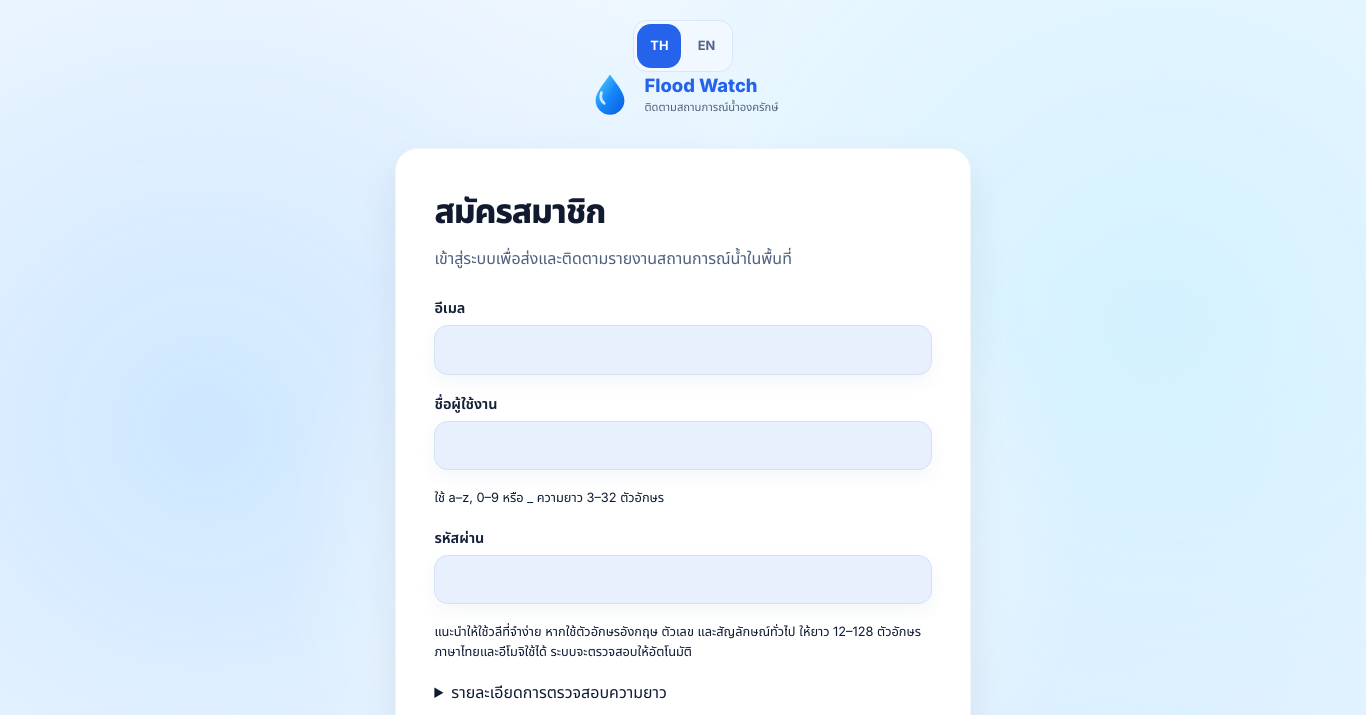
AuthPage › distinguishes a successful registration from an automatic login failure
The image size is (1366, 715).
Type "user@example.com" into the field labelled "อีเมล" at (683, 350), box [434,325,932,374]
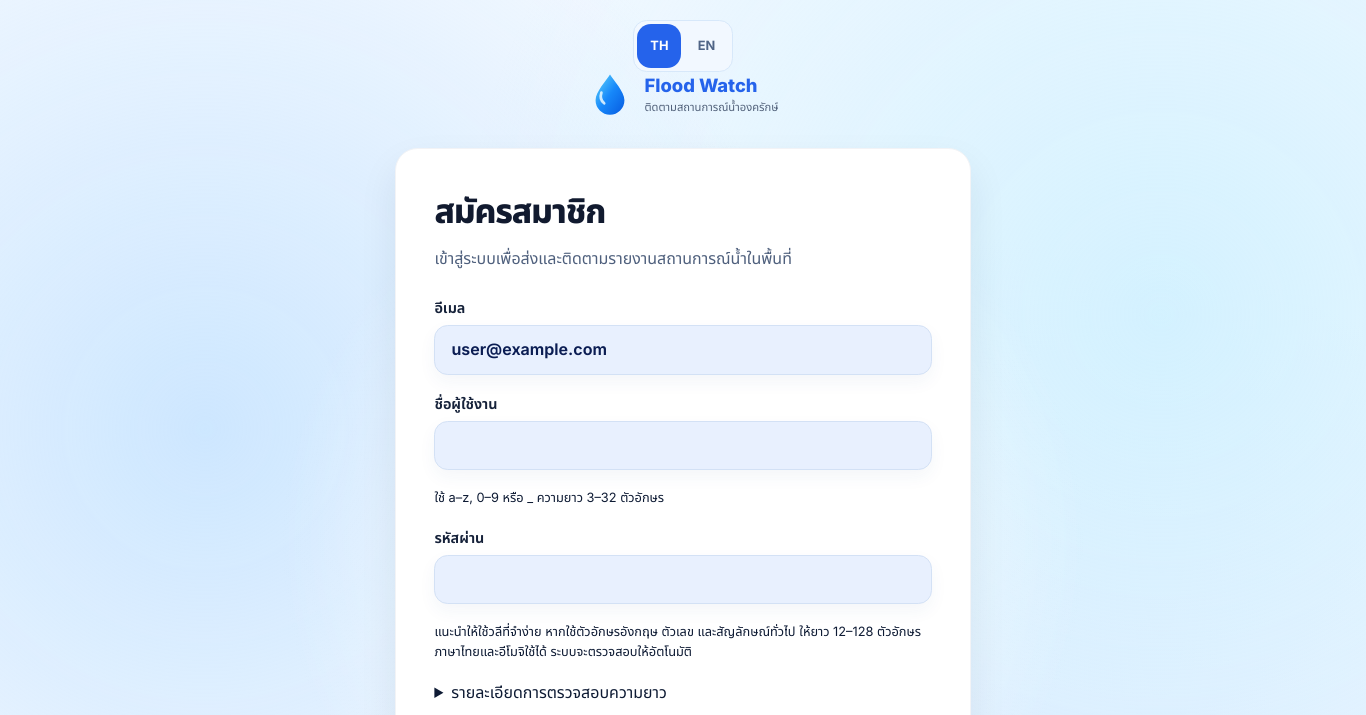
Type "testuser" into the field labelled "ชื่อผู้ใช้งาน" at (683, 446), box [434,421,932,470]
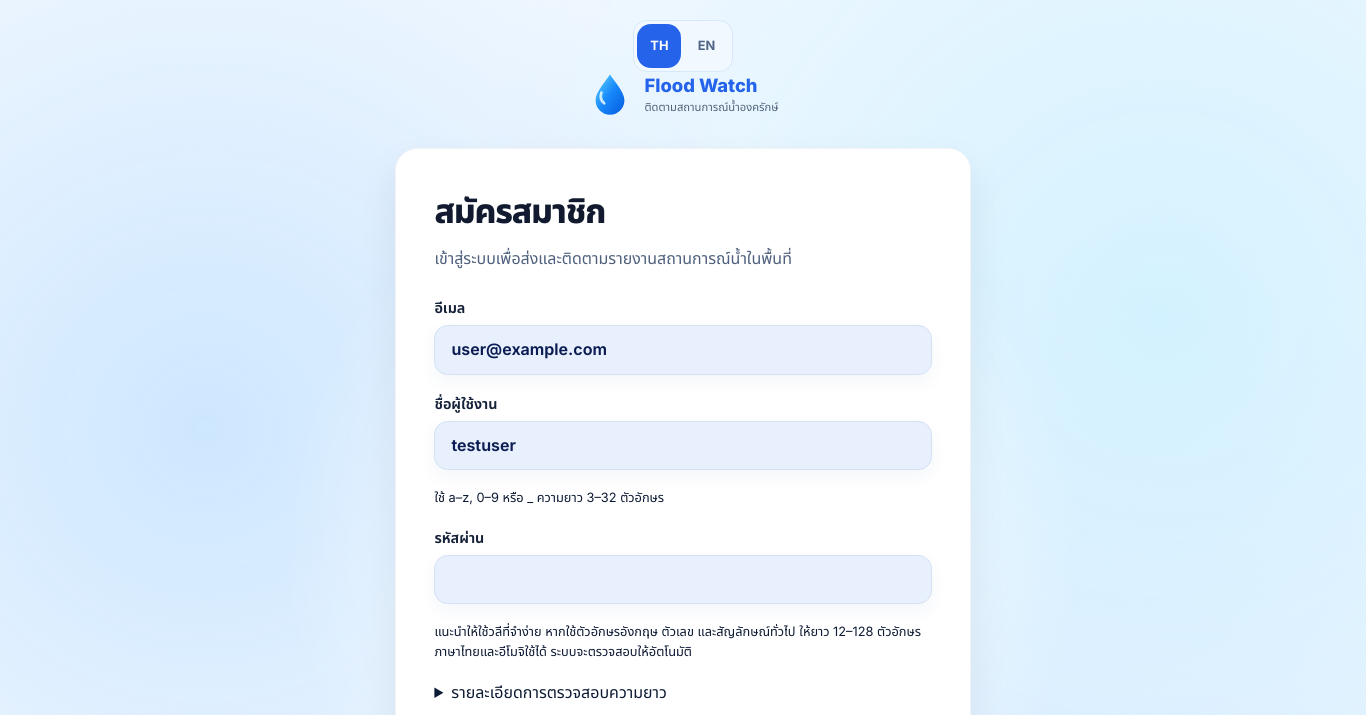
Type "password1234" into the password field labelled "รหัสผ่าน" at (683, 579), box [434,555,932,604]
(page scrolled)
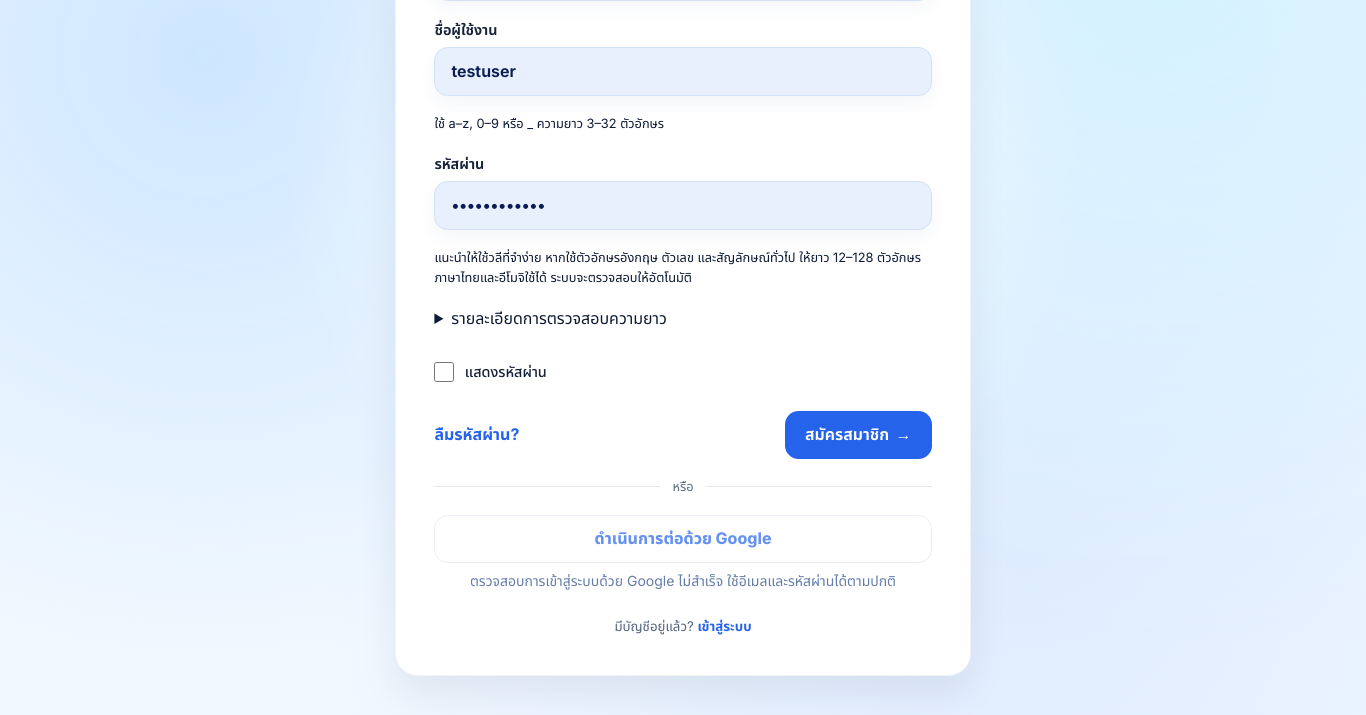
Click the button "สมัครสมาชิก →" at (858, 435), box [785,411,932,459]
(page scrolled)
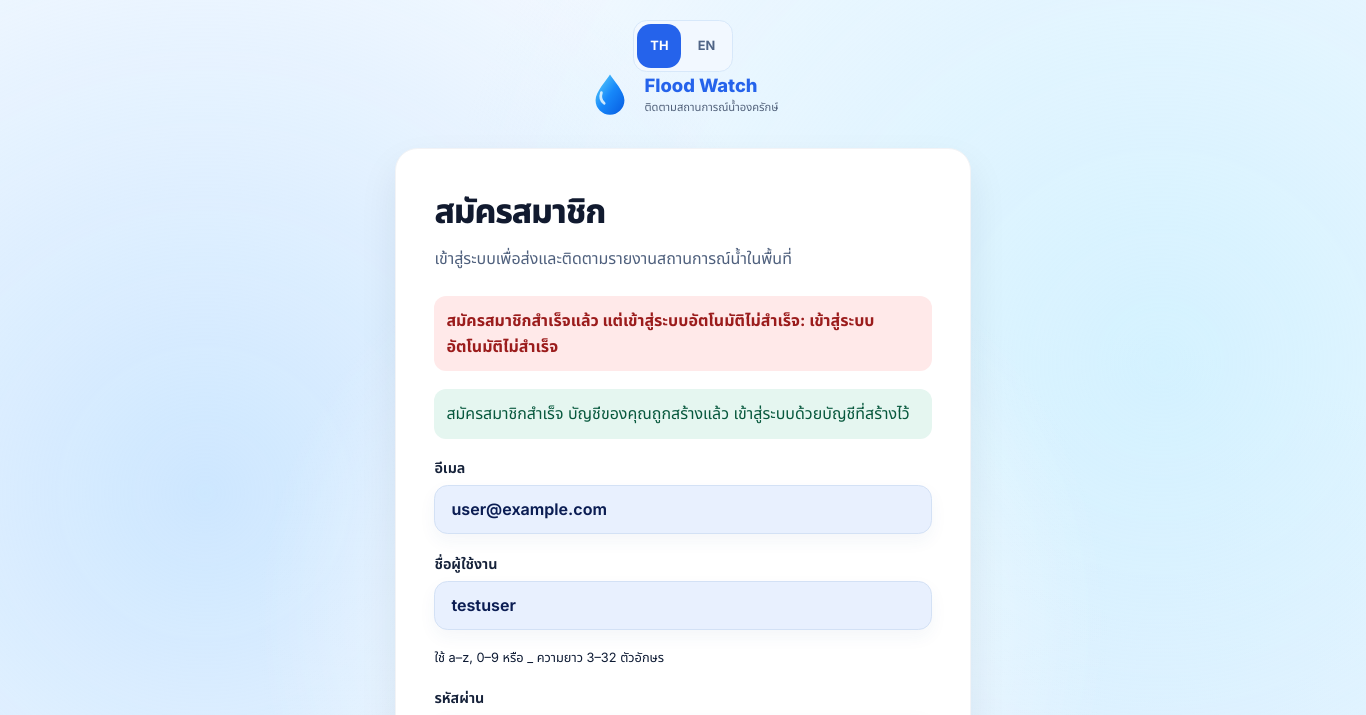
Now the message "สมัครสมาชิกสำเร็จ" is shown, box [446,403,729,423]
Now the 1st message shows "เข้าสู่ระบบอัตโนมัติไม่สำเร็จ", box [446,310,874,356]
